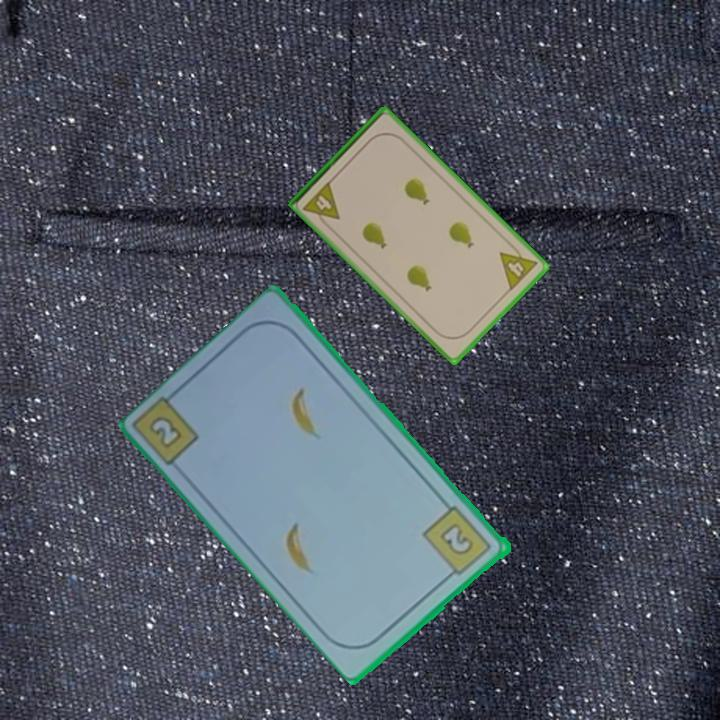2b: (420, 502, 495, 582), (146, 412, 186, 452)
4p: (496, 239, 540, 294), (299, 177, 343, 231)
